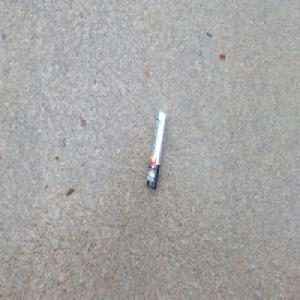Battery: (146, 110, 167, 192)
